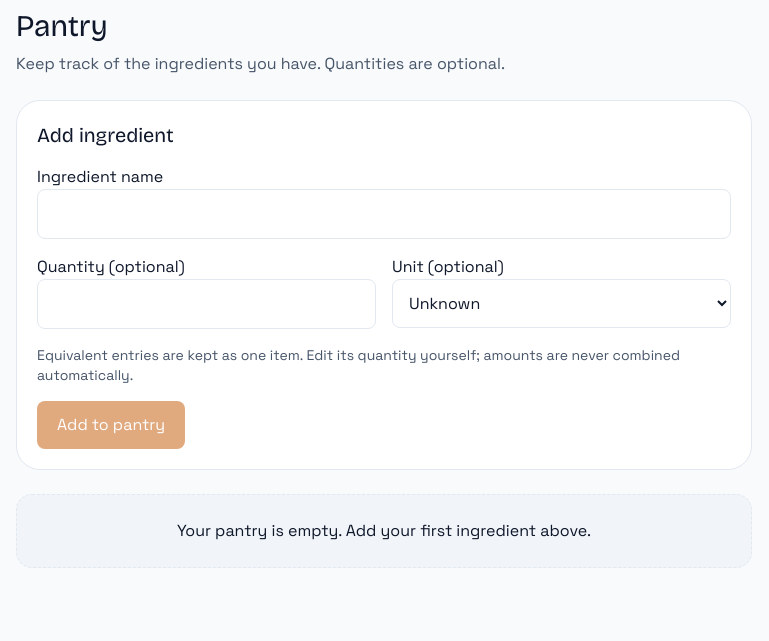
Test: adds name with optional quantity and unit through owner-scoped API
Expected: the text "Your pantry is empty. Add your first ingredient above." is shown, [16, 494, 752, 568]
Type "Chicken Breasts" into the dropdown labelled "Ingredient name".
click(384, 214); type("Chicken Breasts")  # box [37, 189, 731, 239]
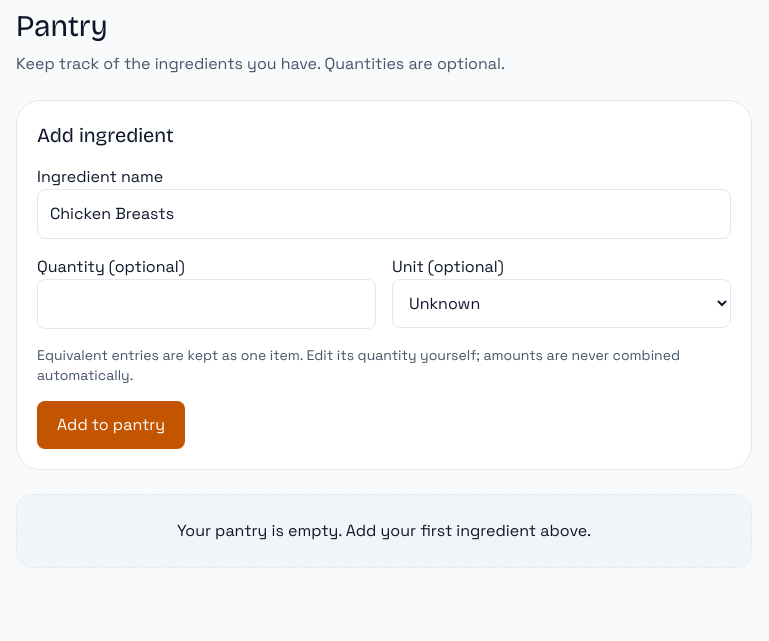
Type "2" into the number field labelled "Quantity (optional)".
click(206, 304); type("2")  # box [37, 279, 376, 329]
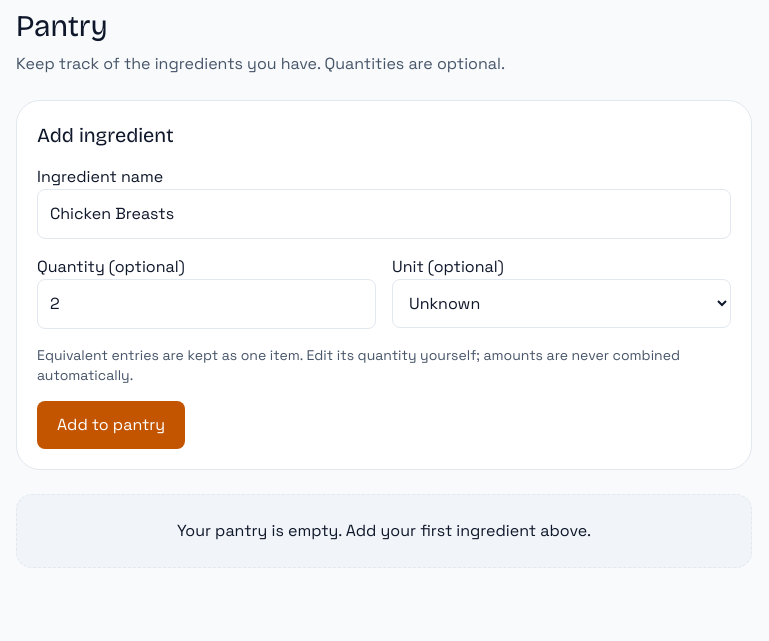
Select "lb" in the dropdown labelled "Unit (optional)" at {"x": 562, "y": 304}, box [392, 279, 731, 328]
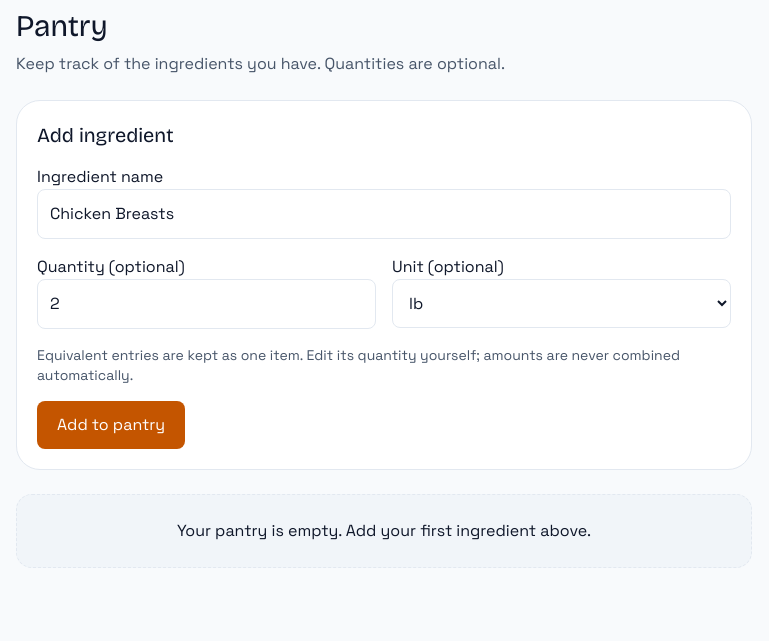
Click the button "Add to pantry".
click(111, 425)  # box [37, 401, 185, 449]
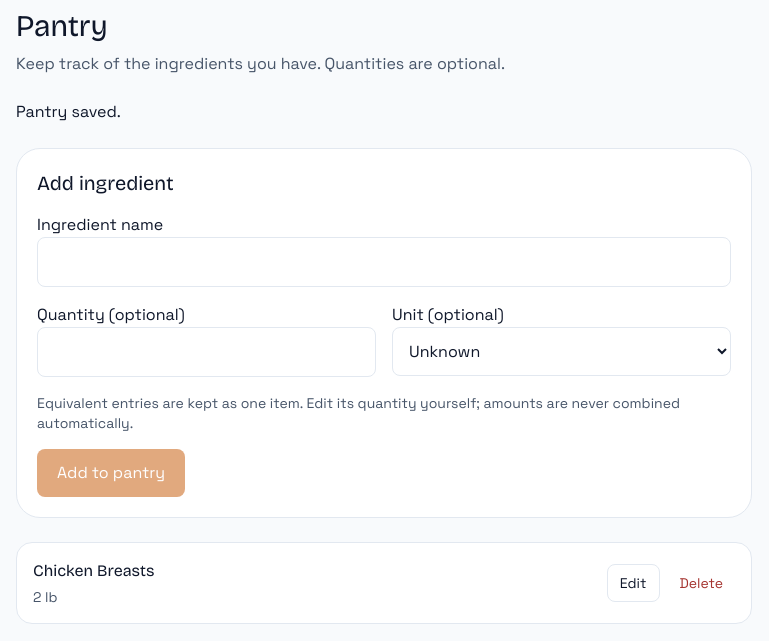
Now the heading "Chicken Breasts" is shown, box [33, 561, 154, 580]
